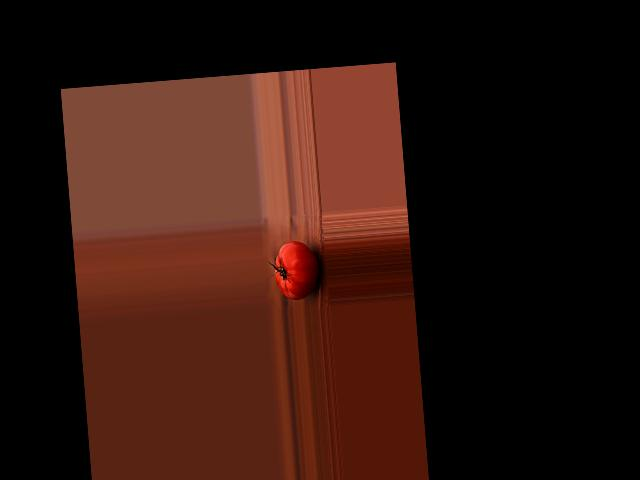tomato: (272, 238, 321, 300)
